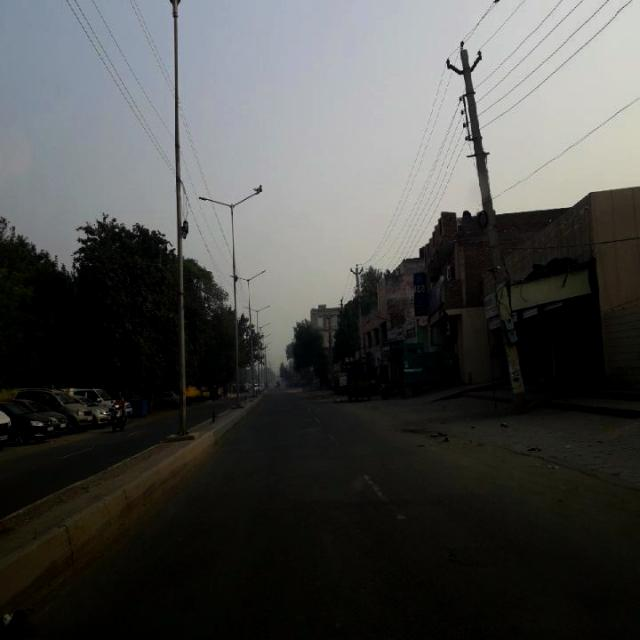D44: (364, 472, 412, 528)
